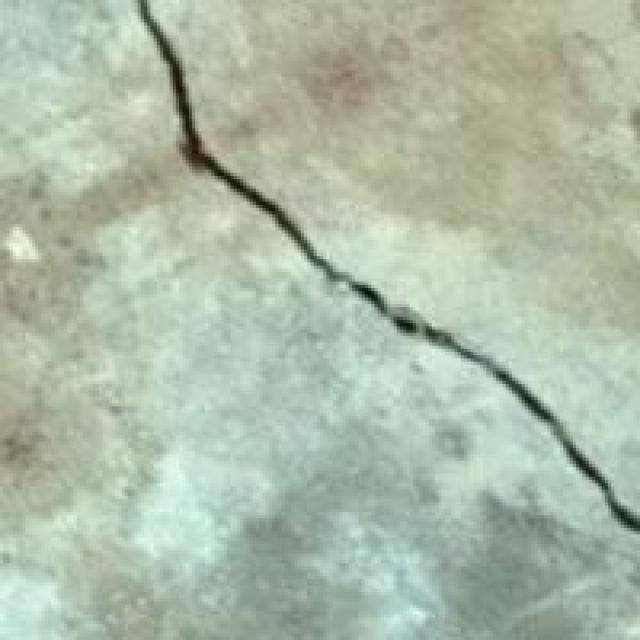Crack: (112, 0, 637, 550)
